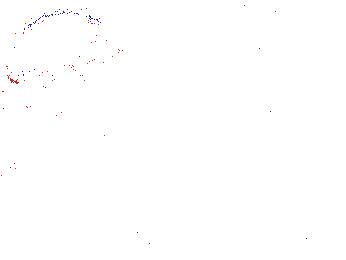moon jellyfish: (6, 8, 123, 86), (83, 46, 176, 103), (99, 2, 201, 53)
